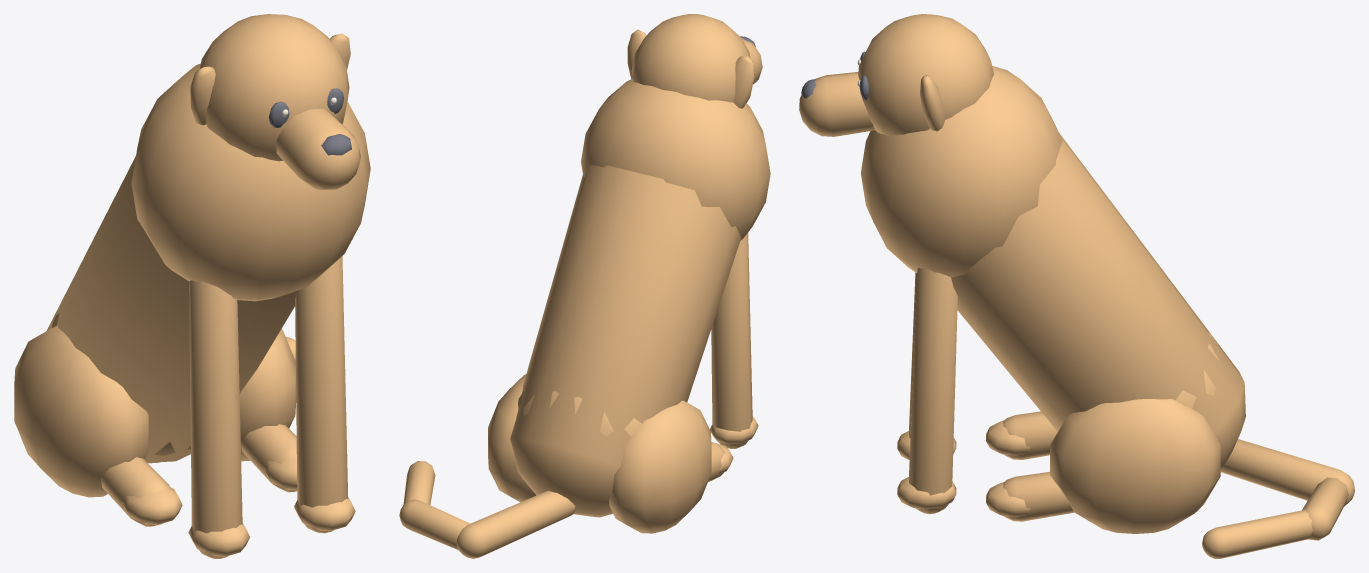
The model's file is dog.glb.
3 renders of one model, left to right at view 1: azimuth 30°, elevation 25°; view 2: azimuth 150°, elevation 25°; view 3: azimuth 270°, elevation 25°, orthographic. The views are drawn at different scales.
Parts seen in each view (by area): view 1: dog-retriever-sit; view 2: dog-retriever-sit; view 3: dog-retriever-sit.
Boxes of the visible parts, x1=… form: dog-retriever-sit: x1=14, y1=14, x2=370, y2=558; dog-retriever-sit: x1=399, y1=14, x2=770, y2=558; dog-retriever-sit: x1=799, y1=14, x2=1354, y2=558.
Bounding box in the file's own units: 0.4733 × 0.7616 × 0.8005.
